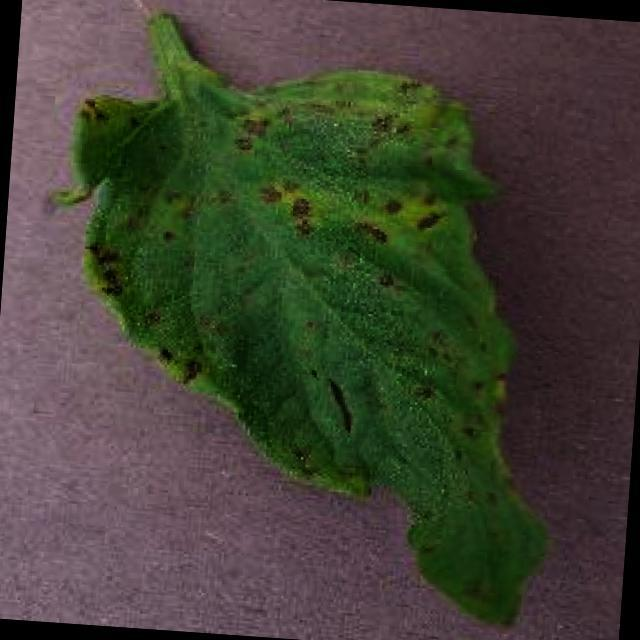Tomato Septoria spot leaf: (40, 44, 572, 632)
